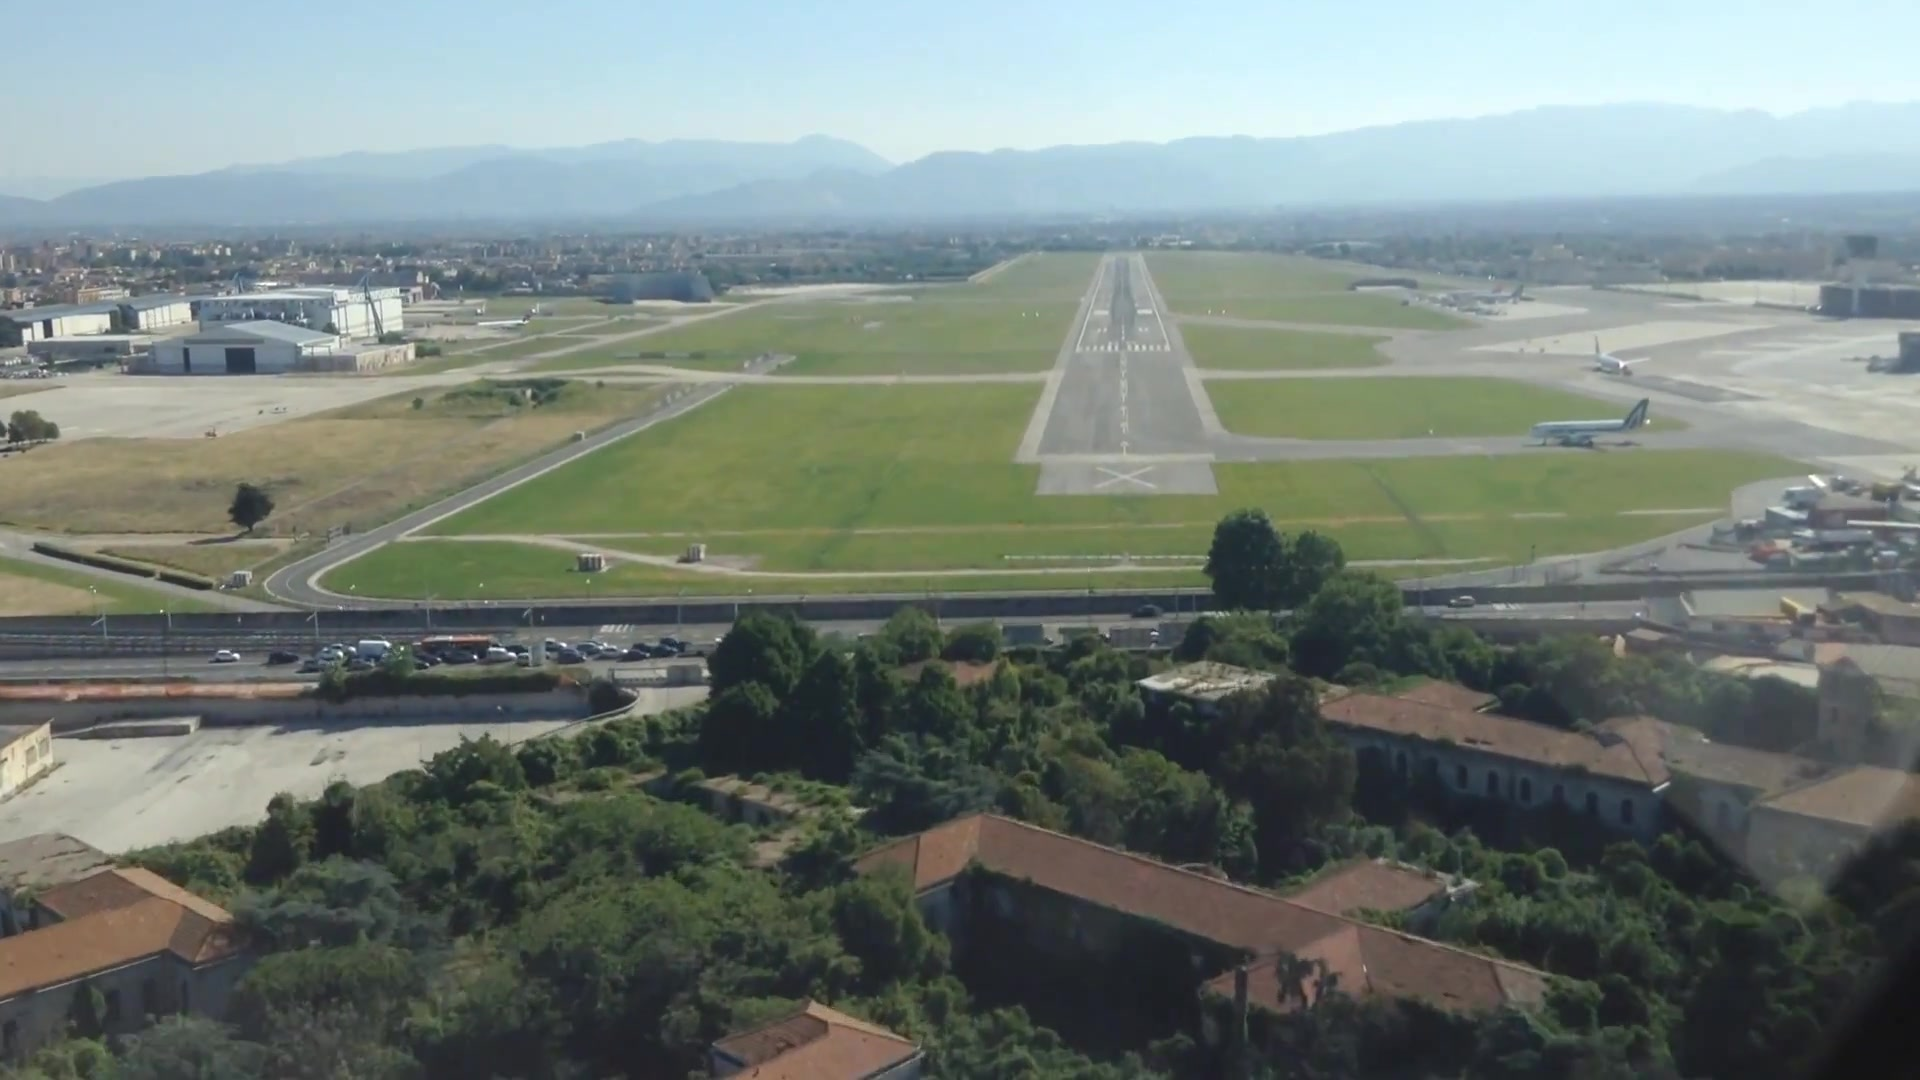entrance: (1079, 339, 1167, 355)
runway: (1035, 252, 1213, 459)
